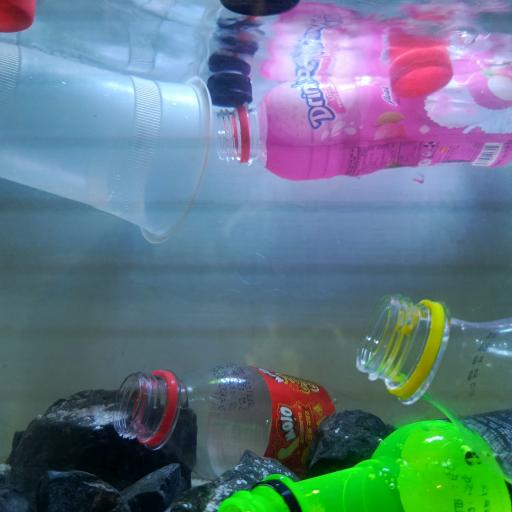bottle_cap: (390, 49, 454, 97), (208, 72, 252, 106), (0, 0, 36, 33)
plastic_bottle: (356, 293, 512, 512), (216, 73, 496, 181), (214, 412, 512, 512), (115, 360, 374, 475)
plastic_cup: (0, 38, 216, 248)
